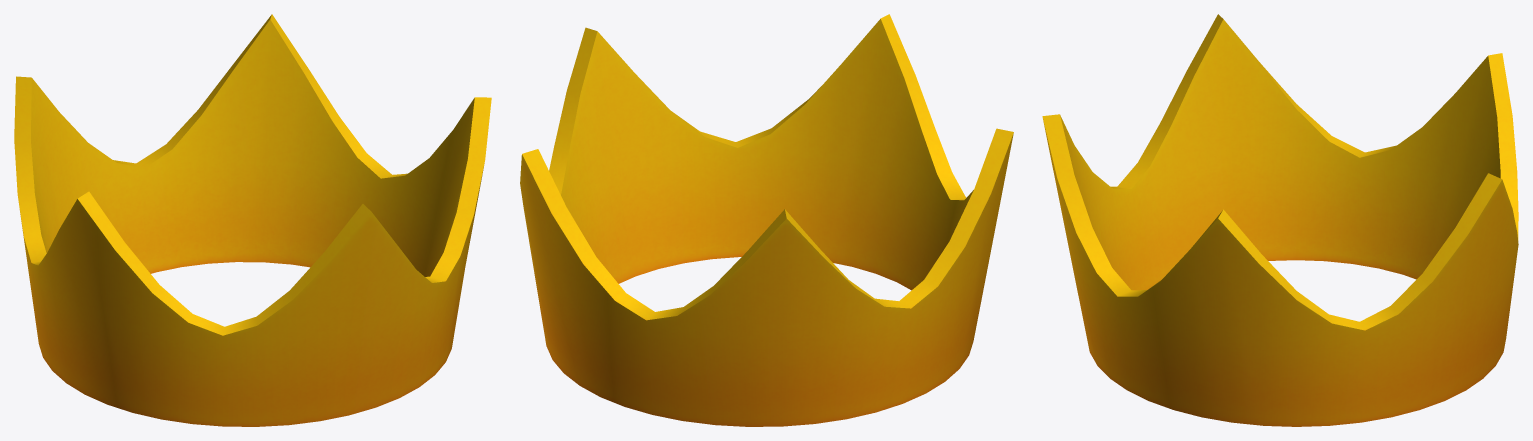
The model's file is crown.glb.
3 views of the same model, side by side, from view 1: azimuth 30°, elevation 25°; view 2: azimuth 150°, elevation 25°; view 3: azimuth 270°, elevation 25° (orthographic). The views are drawn at different scales.
Visible parts, largest first — view 1: Crown; view 2: Crown; view 3: Crown.
Boxes of the visible parts, x1=… form: Crown: x1=14, y1=14, x2=491, y2=426; Crown: x1=520, y1=14, x2=1013, y2=426; Crown: x1=1042, y1=14, x2=1518, y2=426.
Bounding box in the file's own units: 178 × 91.09 × 175.
1 material, 1 textured.
